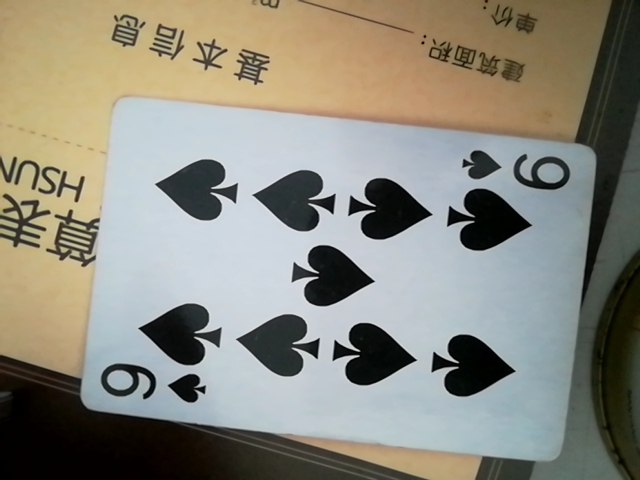ht 9: (75, 99, 596, 470)
